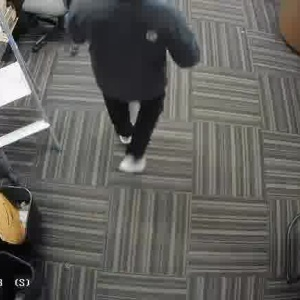person: (78, 0, 185, 163)
